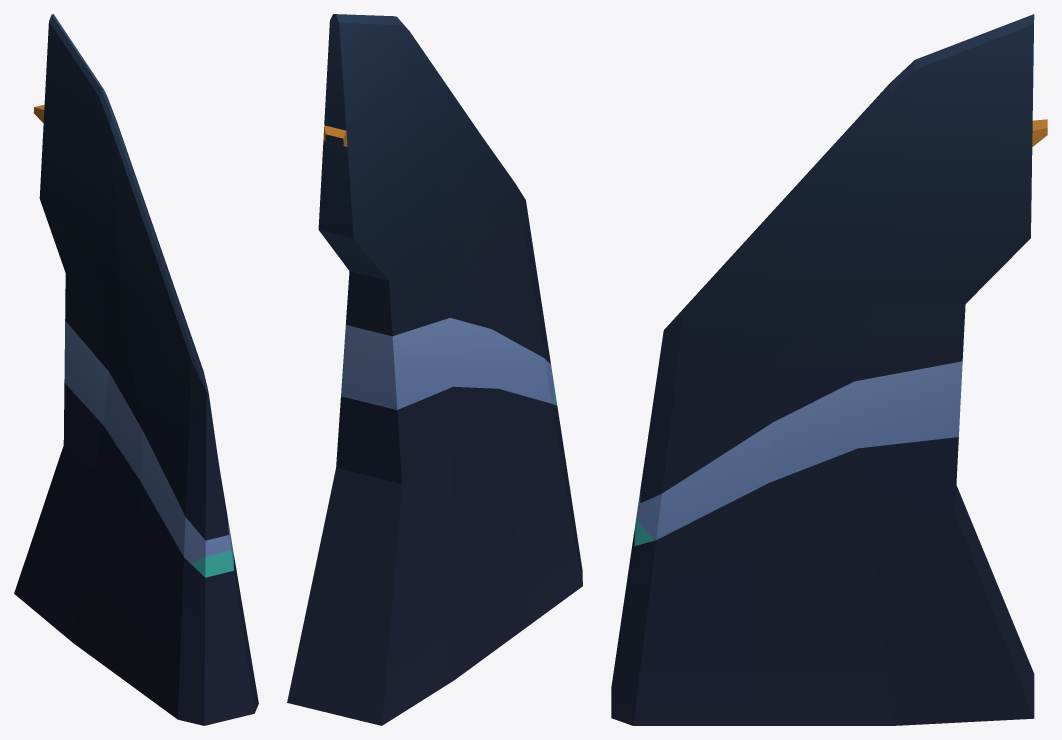
File: SpacePart_AsaInteira_001.fbx
3 renders of one model, left to right at view 1: azimuth 30°, elevation 25°; view 2: azimuth 150°, elevation 25°; view 3: azimuth 270°, elevation 25°, orthographic. The views are drawn at different scales.
Parts seen in each view (by area): view 1: AsaInteira.001; view 2: AsaInteira.001; view 3: AsaInteira.001.
Boxes of the visible parts, x1,y1,x2,y2 form: AsaInteira.001: [14, 14, 258, 725]; AsaInteira.001: [287, 14, 582, 725]; AsaInteira.001: [611, 14, 1047, 725].
Size of the model in its own units: 627 by 4472 by 2569.
